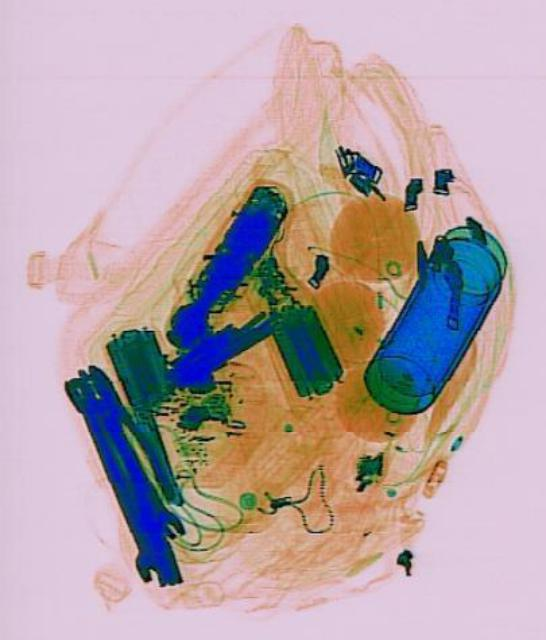Pliers: (73, 352, 180, 520)
Wrench: (57, 368, 168, 592)
